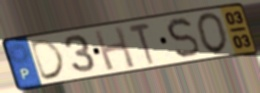3: (63, 34, 98, 75)
D: (28, 38, 67, 83)
H: (91, 24, 138, 73)
O: (195, 11, 230, 56)
S: (165, 16, 202, 61)
T: (126, 22, 157, 66)
